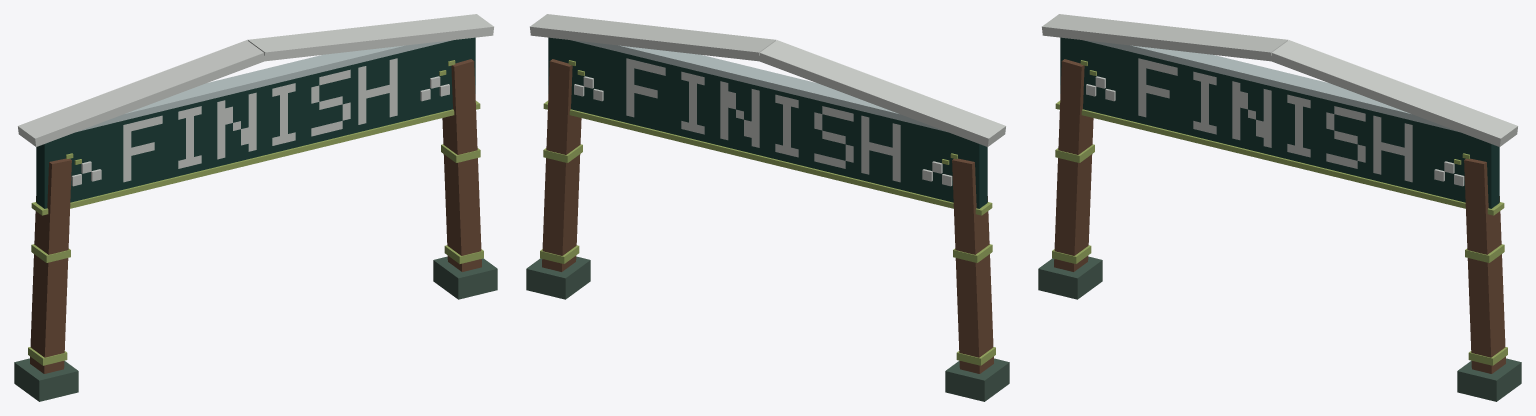
The model's file is finish.glb.
3 renders of one model, left to right at view 1: azimuth 30°, elevation 25°; view 2: azimuth 150°, elevation 25°; view 3: azimuth 330°, elevation 25°, orthographic.
Visible parts, largest first — view 1: finish; view 2: finish; view 3: finish.
Part boxes in pixels (x1,y1,x2,y2): finish: [14, 14, 497, 401]; finish: [526, 14, 1009, 401]; finish: [1038, 14, 1521, 401].
Size of the model in its own units: 9.9 by 5.99 by 0.94.
